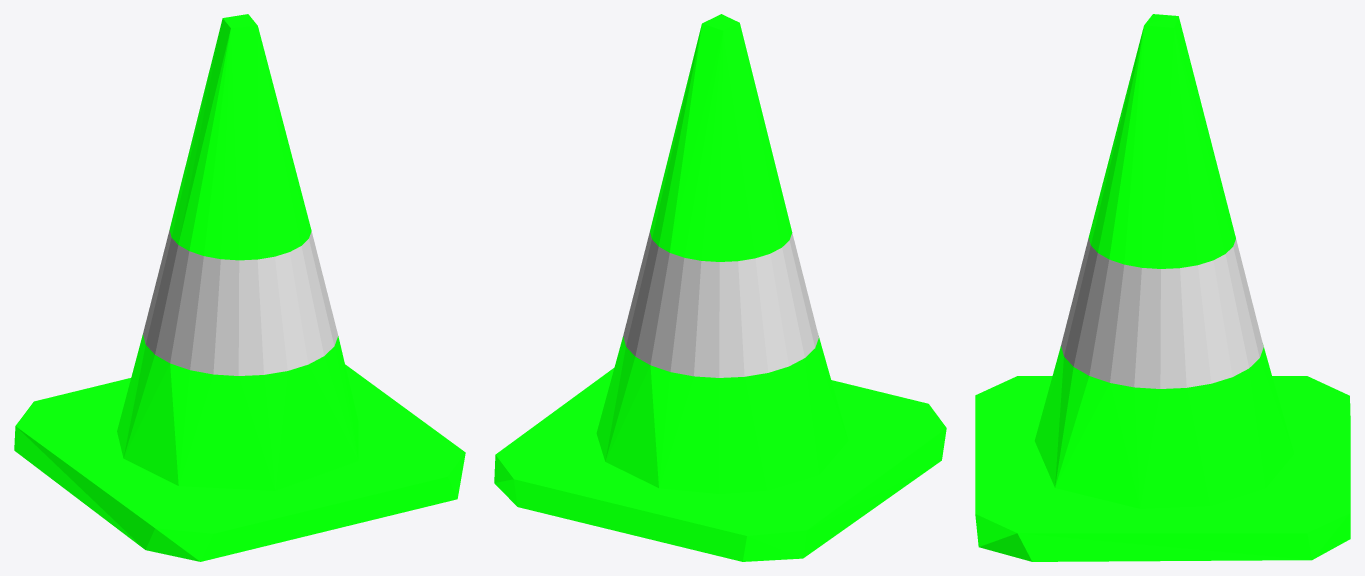
Rendered from cone_green.dae.
The picture shows the model from 3 angles, left to right: view 1: azimuth 30°, elevation 25°; view 2: azimuth 150°, elevation 25°; view 3: azimuth 270°, elevation 25°; orthographic projection. The views are drawn at different scales.
Parts seen in each view (by area): view 1: node; view 2: node; view 3: node.
Boxes of the visible parts, bbox=[...] form: node: bbox=[14, 14, 465, 561]; node: bbox=[494, 14, 946, 561]; node: bbox=[975, 14, 1350, 561].
Size of the model in its own units: 0.2254 by 0.224 by 0.3034.
